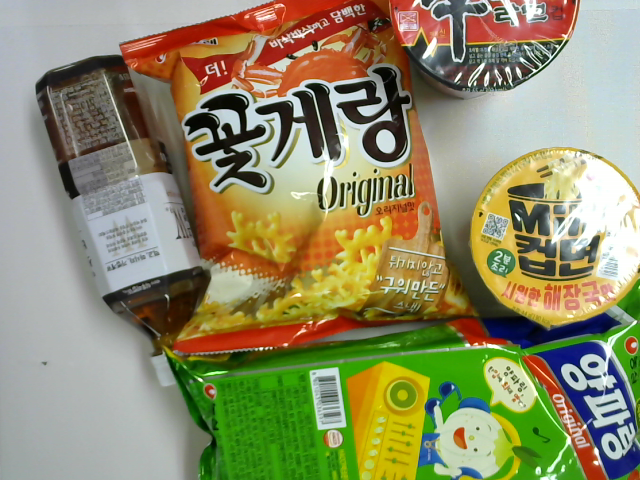Crabrang: (118, 1, 480, 357)
Hejangmini: (466, 144, 640, 332)
Oninon_Ring: (163, 278, 640, 479)
Post-meal_recipe_W_tea_500ml: (34, 51, 210, 388)
Sinramen_small: (387, 1, 580, 99)
